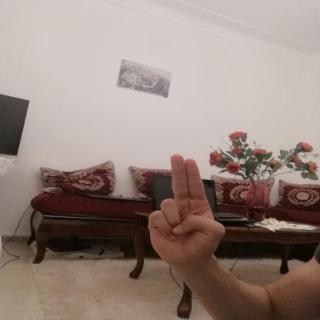TA: (143, 149, 232, 274)
